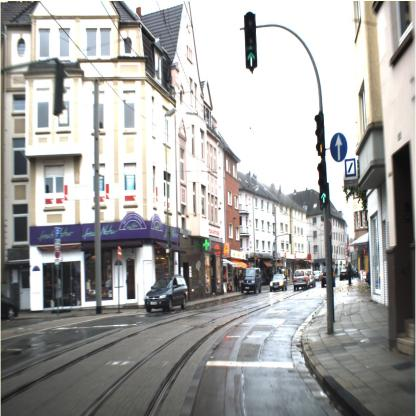NO ENTRY: (118, 246, 122, 261)
go straight: (330, 132, 347, 162)
